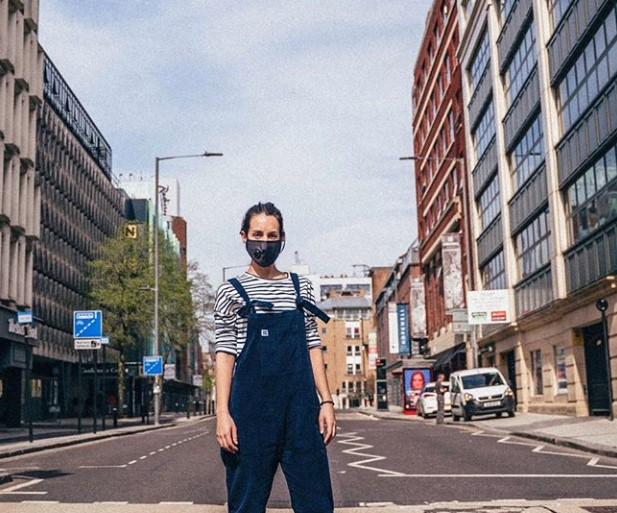face_with_mask: (240, 208, 286, 270)
